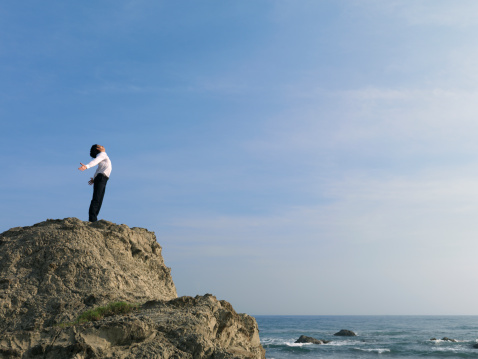em pe: (74, 144, 109, 220)
